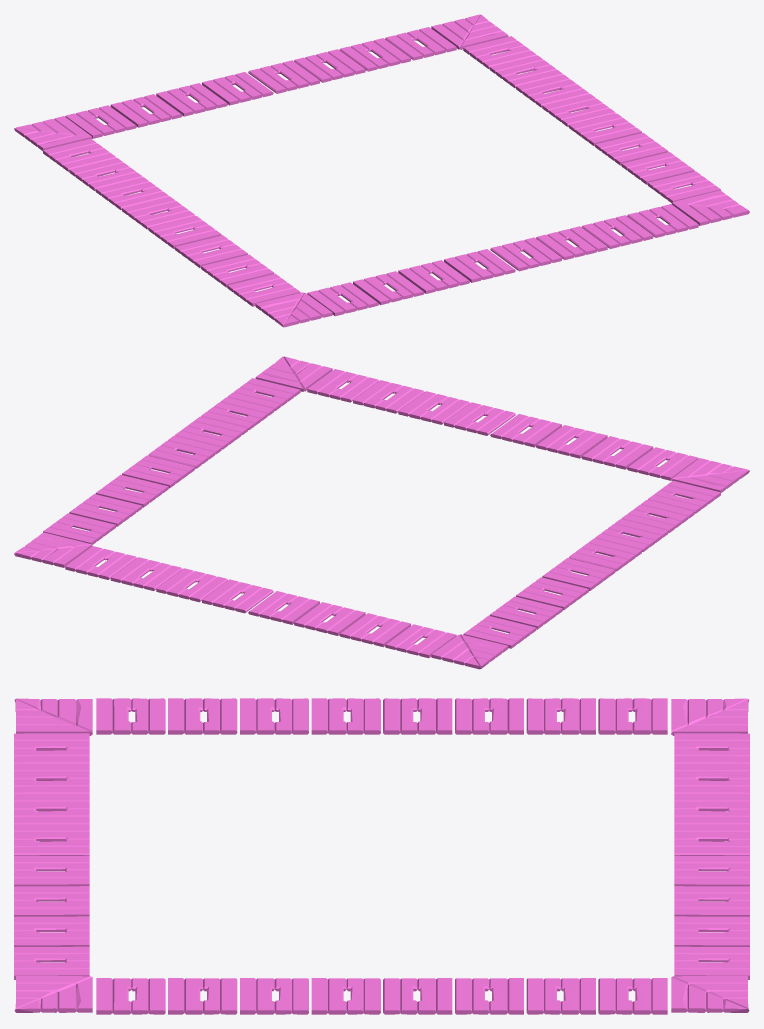
The model's file is SM_Tower_Square_6m_Machicolations_Shutter_Fantasy.fbx.
3 renders of one model, top to bottom at view 1: azimuth 30°, elevation 25°; view 2: azimuth 150°, elevation 25°; view 3: azimuth 270°, elevation 25°, orthographic. The views are drawn at different scales.
Visible parts, largest first — view 1: SM_Tower_Square_6m_Machicolations_Shutter_Fantasy; view 2: SM_Tower_Square_6m_Machicolations_Shutter_Fantasy; view 3: SM_Tower_Square_6m_Machicolations_Shutter_Fantasy.
Boxes of the visible parts, x1,y1,x2,y2 form: SM_Tower_Square_6m_Machicolations_Shutter_Fantasy: (14, 14, 749, 327); SM_Tower_Square_6m_Machicolations_Shutter_Fantasy: (14, 356, 749, 669); SM_Tower_Square_6m_Machicolations_Shutter_Fantasy: (14, 698, 749, 1014).
Size of the model in its own units: 7.71 by 0.0626 by 7.69.
